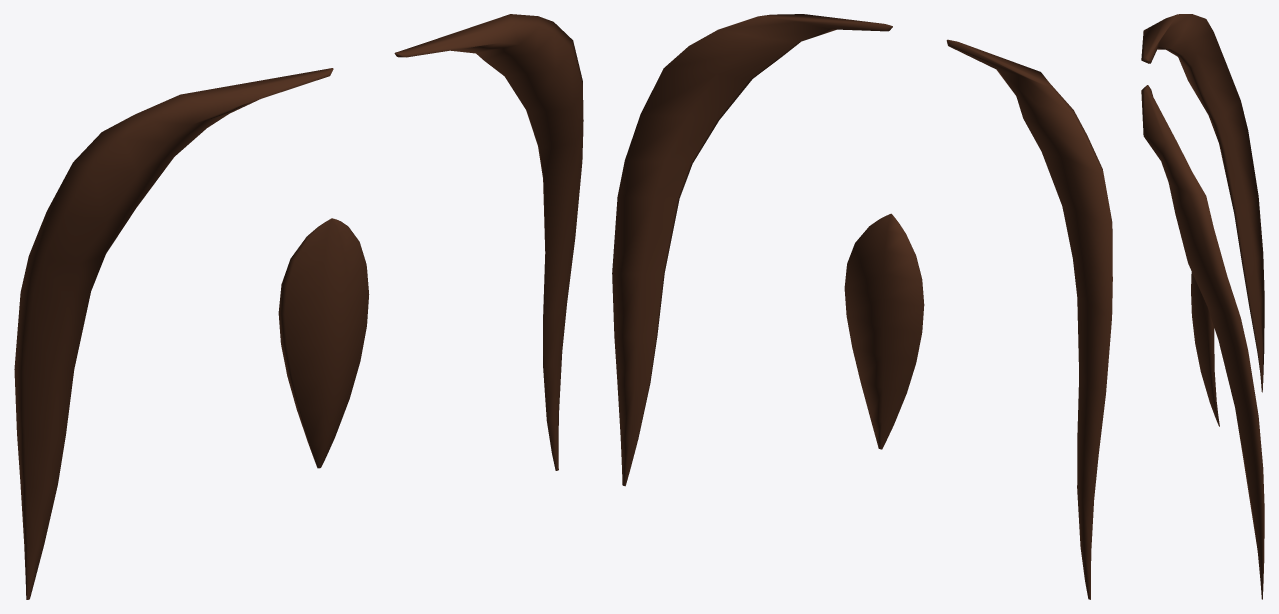
The picture shows the model from 3 angles, left to right: view 1: azimuth 30°, elevation 25°; view 2: azimuth 150°, elevation 25°; view 3: azimuth 270°, elevation 25°; orthographic projection. The views are drawn at different scales.
Visible parts, largest first — view 1: beardMustacheWise; view 2: beardMustacheWise; view 3: beardMustacheWise.
Boxes of the visible parts, left/top/right/bottom form: beardMustacheWise: left=14, top=14, right=583, bottom=599; beardMustacheWise: left=612, top=14, right=1112, bottom=599; beardMustacheWise: left=1141, top=14, right=1264, bottom=599.
Bounding box in the file's own units: 0.3379 × 0.3028 × 0.08.
1 material, 1 textured.
